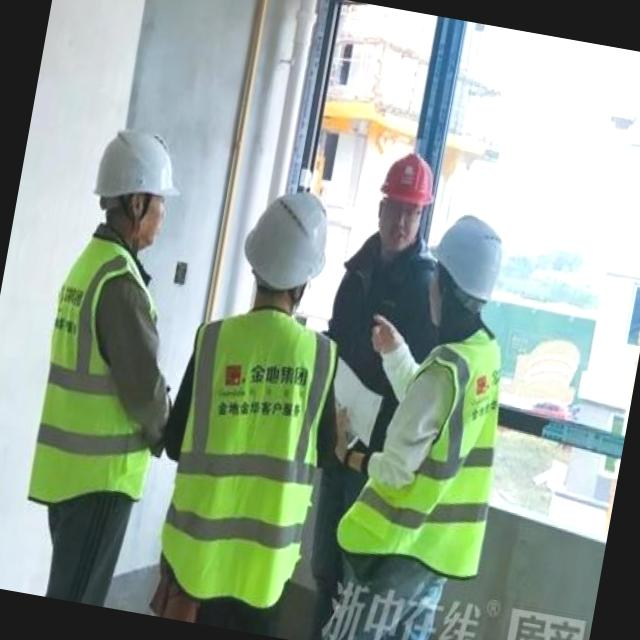helmet: (240, 180, 341, 294), (424, 210, 516, 311), (89, 116, 190, 207), (376, 150, 440, 207)
vest: (148, 292, 342, 626), (19, 233, 182, 526), (373, 340, 523, 590)
